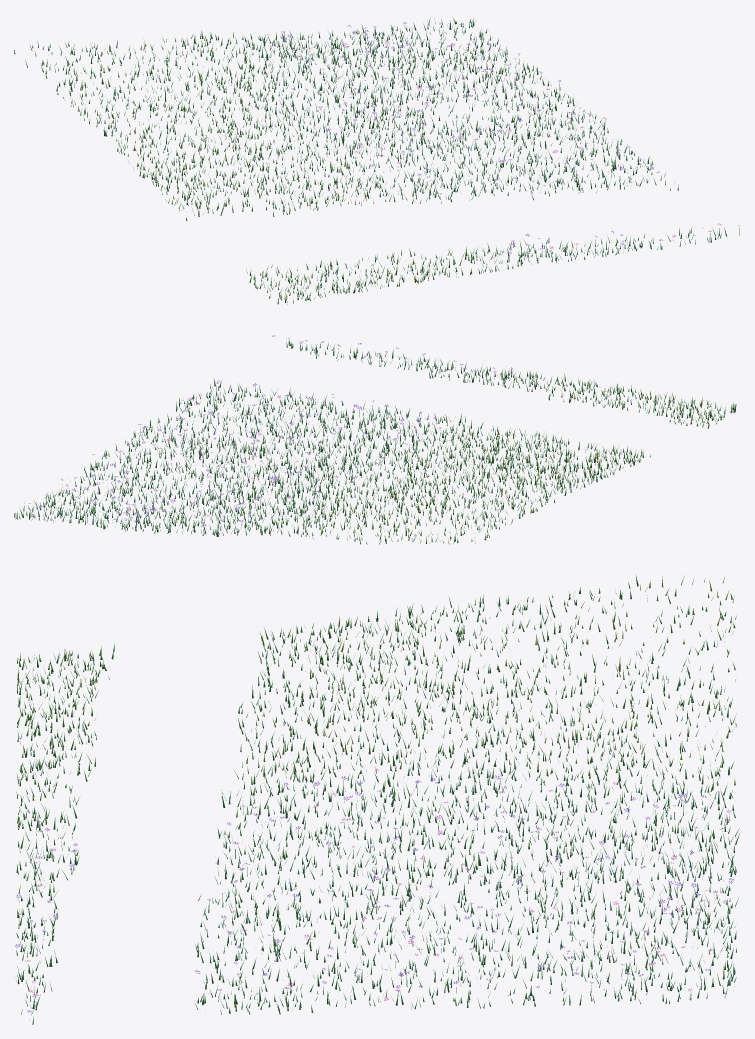
3 renders of one model, top to bottom at view 1: azimuth 30°, elevation 25°; view 2: azimuth 150°, elevation 25°; view 3: azimuth 270°, elevation 25°, orthographic. The views are drawn at different scales.
Parts seen in each view (by area): view 1: gc_17; view 2: gc_17; view 3: gc_17.
Boxes of the visible parts, bbox=[...] form: gc_17: bbox=[14, 17, 740, 304]; gc_17: bbox=[14, 335, 736, 544]; gc_17: bbox=[14, 574, 740, 1024].
Size of the model in its own units: 18.16 by 4.16 by 18.19.
Materials: 1 (1 with a texture image).
